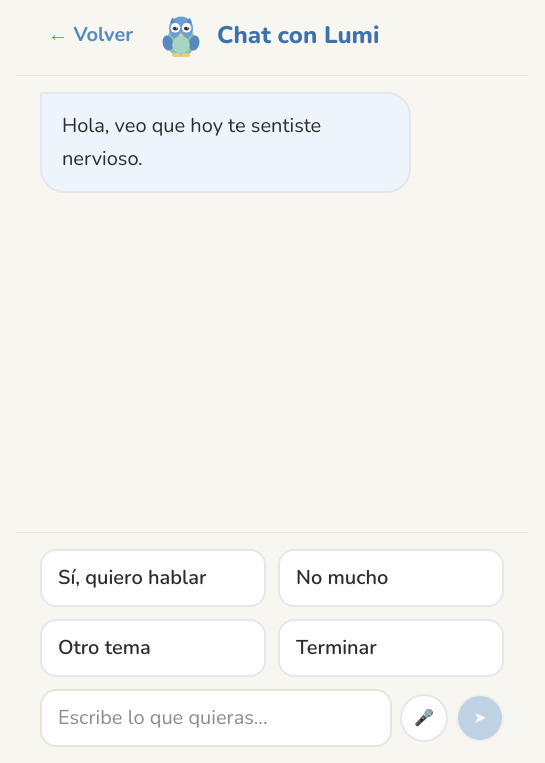
it: ChatIA › muestra la respuesta de Lumi después de seleccionar una opción
Click the button "Sí, quiero hablar" at (153, 578), box [40,549,266,607]
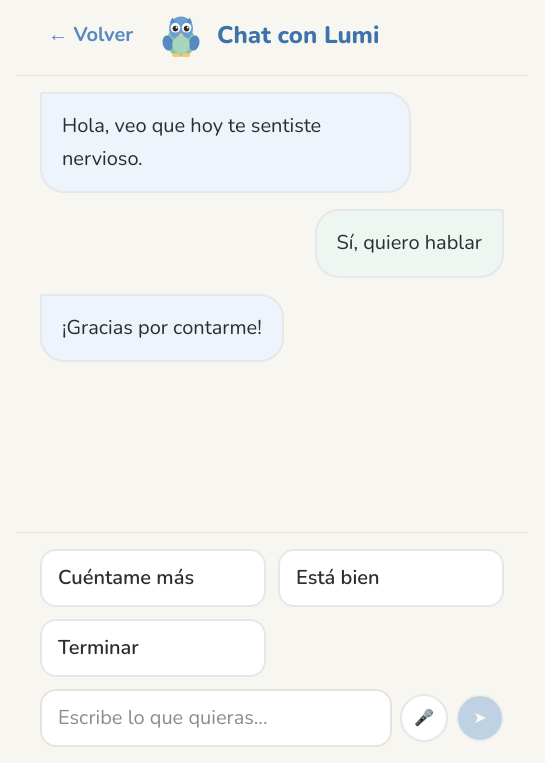
Check: the text "¡Gracias por contarme!" is shown, box [40,294,284,362]
